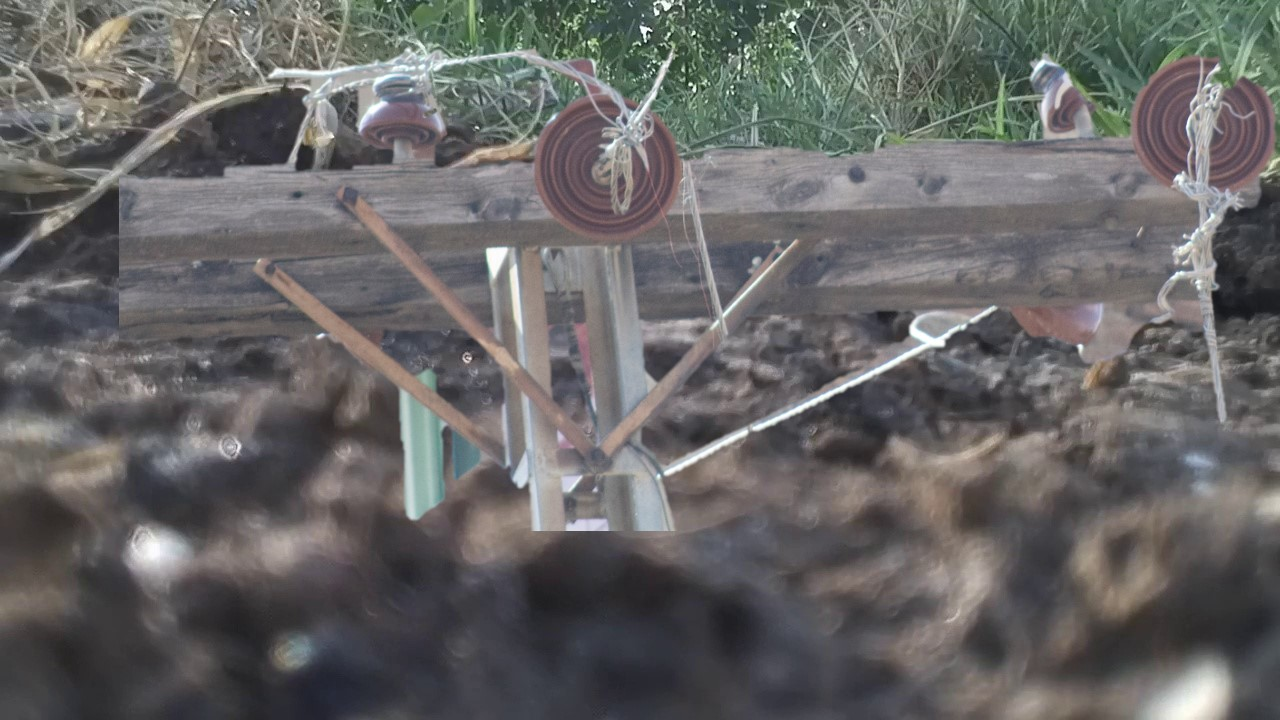defect_pin: (1028, 54, 1101, 140)
insulator_disc: (527, 91, 686, 251), (1128, 54, 1271, 194)
insulator_pin: (353, 67, 449, 159)
